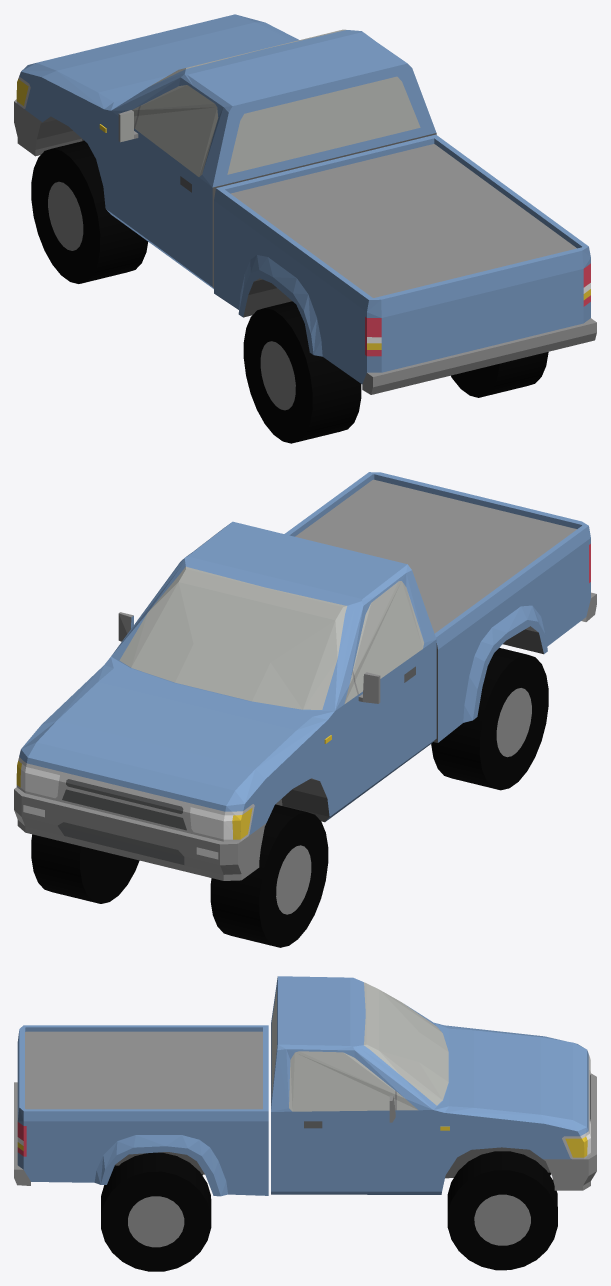
The picture shows the model from 3 angles, top to bottom: view 1: azimuth 30°, elevation 25°; view 2: azimuth 150°, elevation 25°; view 3: azimuth 270°, elevation 25°; orthographic projection. The views are drawn at different scales.
Parts seen in each view (by area): view 1: Mesh1 Model, Mesh5 Model, Mesh4 Model, Mesh2 Model; view 2: Mesh1 Model, Mesh4 Model, Mesh5 Model, Mesh3 Model; view 3: Mesh1 Model, Mesh3 Model, Mesh2 Model.
Boxes of the visible parts, x1=… form: Mesh1 Model: x1=14, y1=14, x2=596, y2=394; Mesh5 Model: x1=243, y1=301, x2=361, y2=443; Mesh4 Model: x1=31, y1=140, x2=147, y2=283; Mesh2 Model: x1=451, y1=352, x2=548, y2=397; Mesh1 Model: x1=14, y1=472, x2=596, y2=880; Mesh4 Model: x1=210, y1=804, x2=328, y2=947; Mesh5 Model: x1=431, y1=648, x2=548, y2=790; Mesh3 Model: x1=31, y1=834, x2=139, y2=903; Mesh1 Model: x1=14, y1=976, x2=596, y2=1196; Mesh3 Model: x1=447, y1=1151, x2=557, y2=1270; Mesh2 Model: x1=101, y1=1152, x2=211, y2=1271.
Size of the model in its own units: 134 by 133 by 326.
